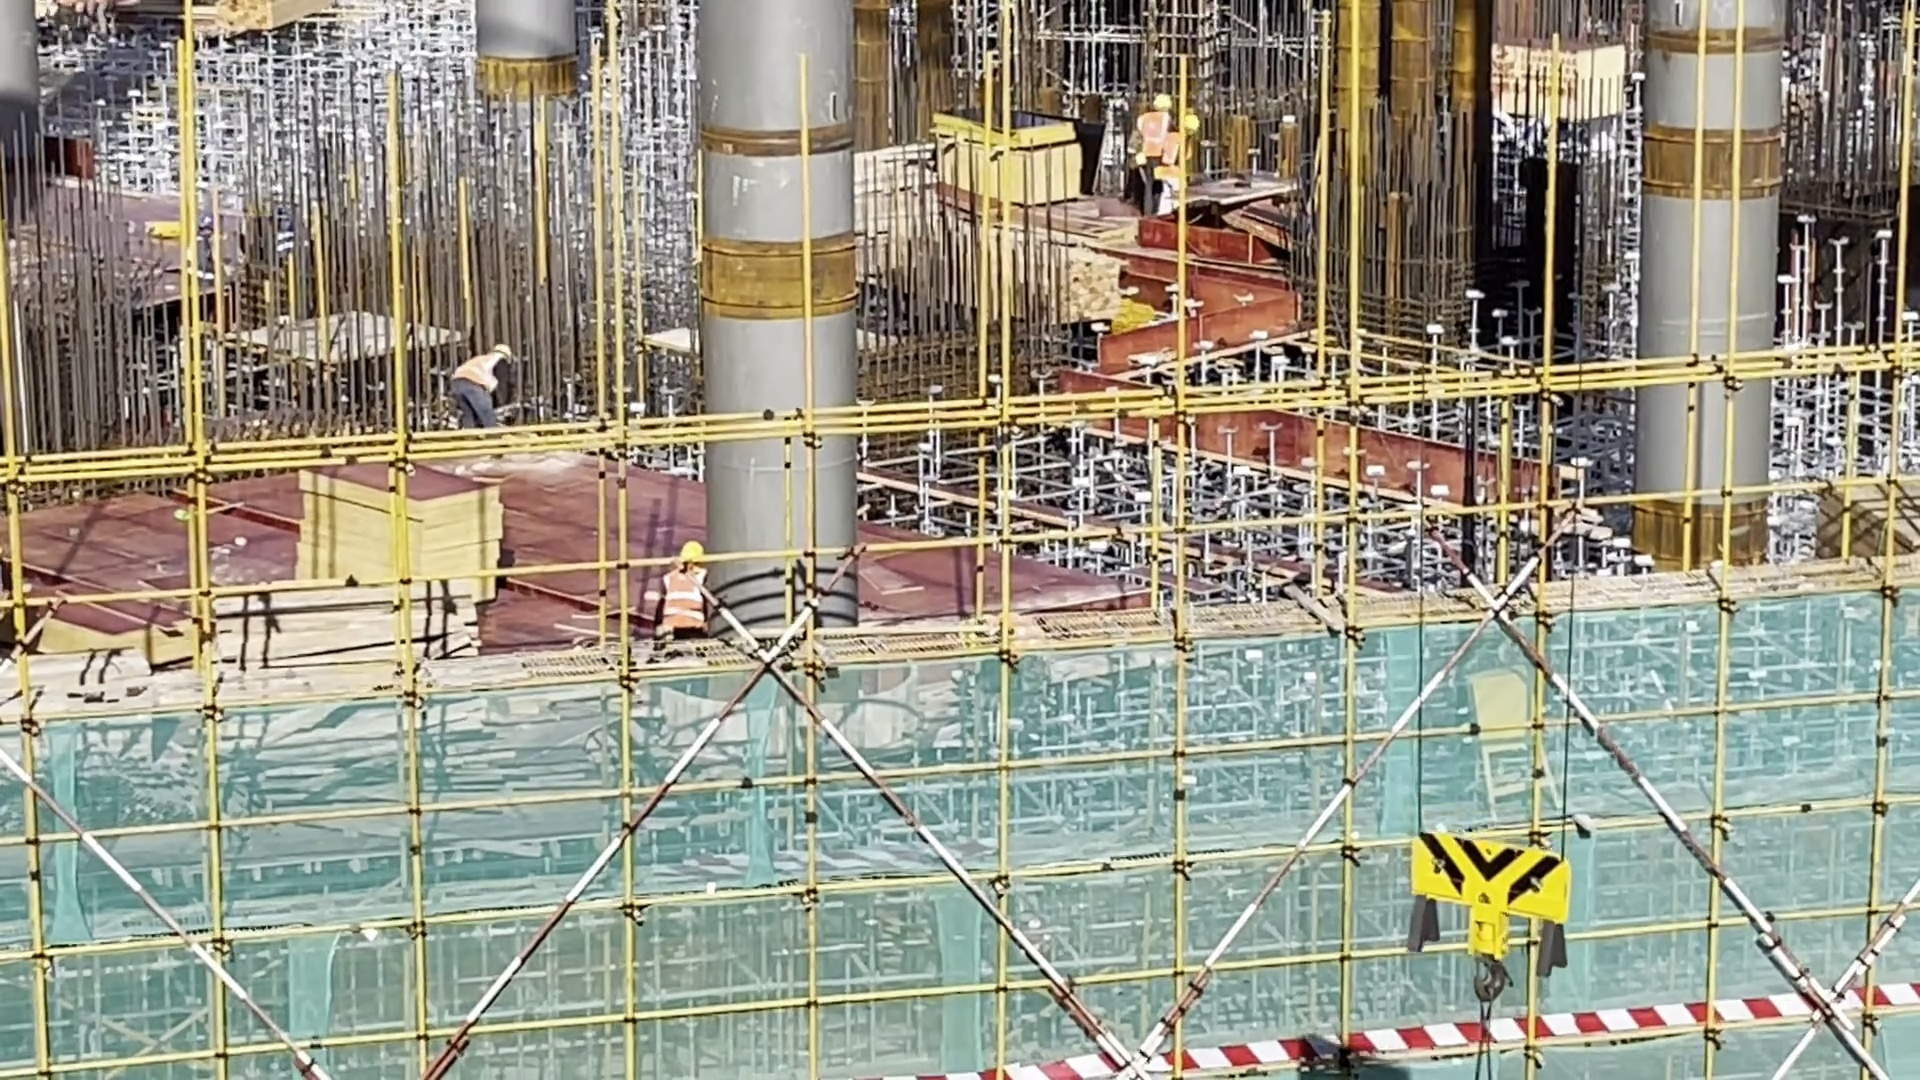board: (302, 458, 508, 615), (926, 108, 1095, 222), (1804, 463, 1920, 577)
ebox: (1468, 659, 1556, 821)
helmet: (671, 539, 707, 574), (1182, 108, 1202, 137), (1151, 91, 1172, 113), (493, 342, 514, 362)
hook: (1384, 831, 1588, 1009)
person: (447, 334, 527, 452), (1131, 87, 1181, 231), (1155, 106, 1212, 226), (654, 535, 716, 643)
vest: (659, 569, 716, 637), (451, 349, 507, 395), (1154, 126, 1188, 190), (1135, 113, 1165, 165)
wood: (201, 582, 495, 699), (211, 1, 332, 55)
